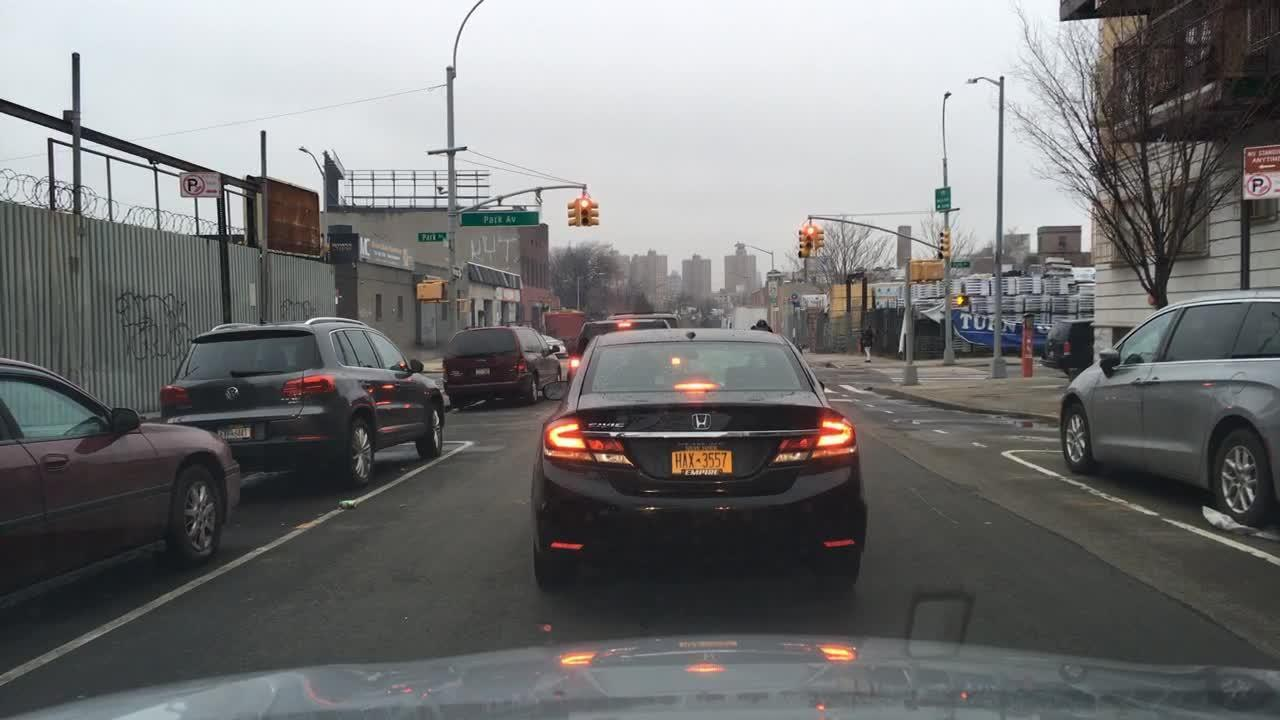Volkswagen: (218, 379, 248, 404)
